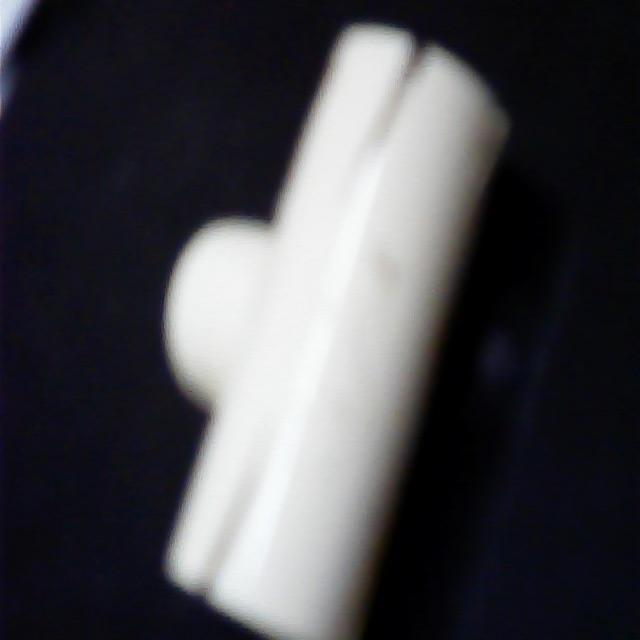Defective: (380, 31, 442, 176), (218, 432, 267, 615)
T Joint: (161, 23, 511, 639)
